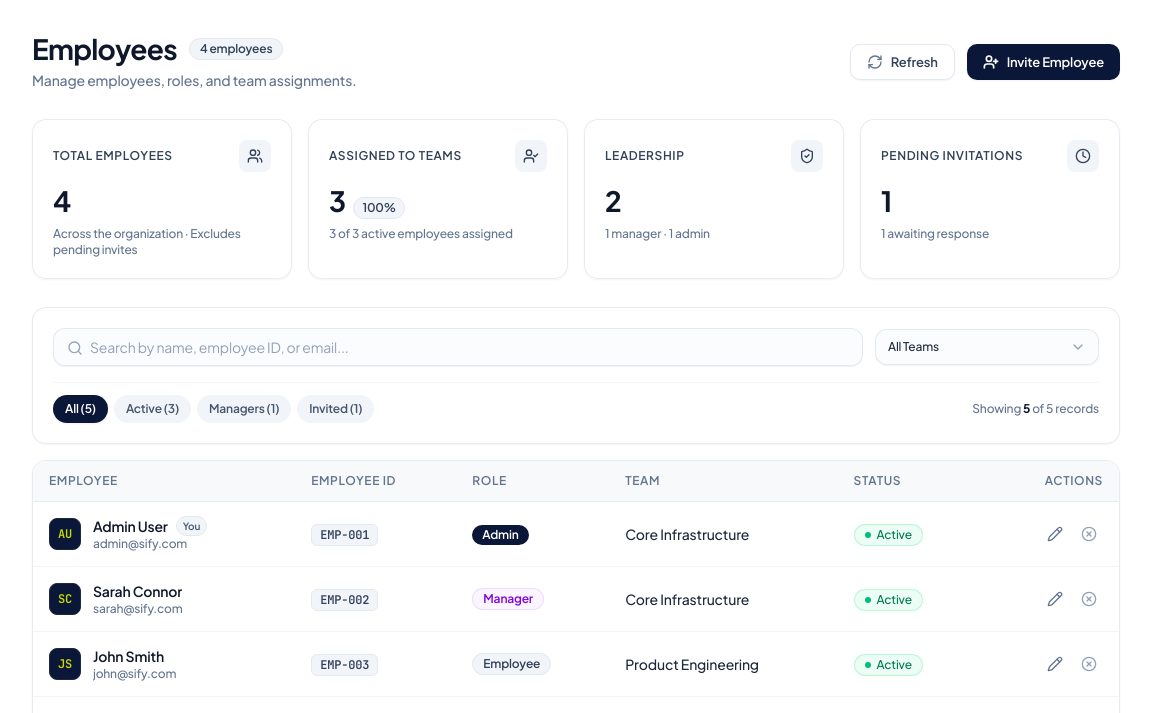
Scenario: EmployeesList UX and Functionality Improvements › filters by status & role pills (All, Active, Managers, Invited)
# Active pill (3 active employees: EMP-001, EMP-002, EMP-003)
Click the button "Active (3)" at (152, 409), box [114, 395, 191, 423]
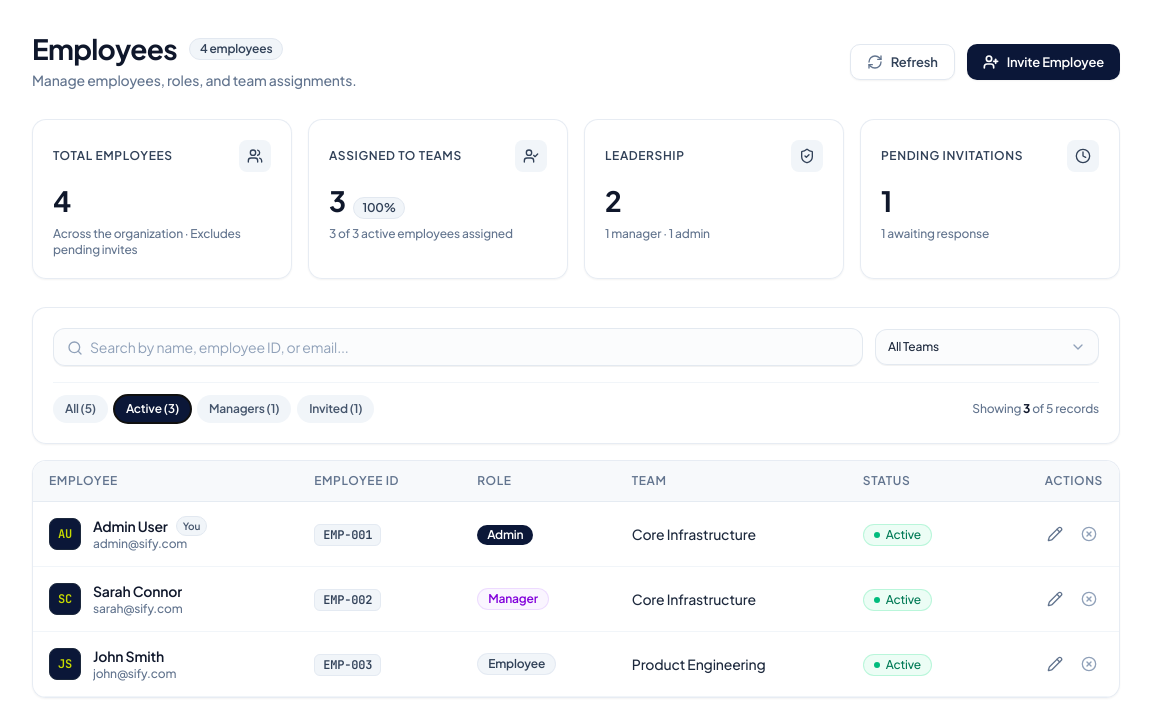
Expected: the text "Sarah Connor" is shown, [93, 581, 182, 601]
Expected: the text "John Smith" is shown, [93, 646, 164, 666]
# Managers pill (1 manager: Sarah Connor)
Click the button "Managers (1)" at (244, 409), box [197, 395, 291, 423]
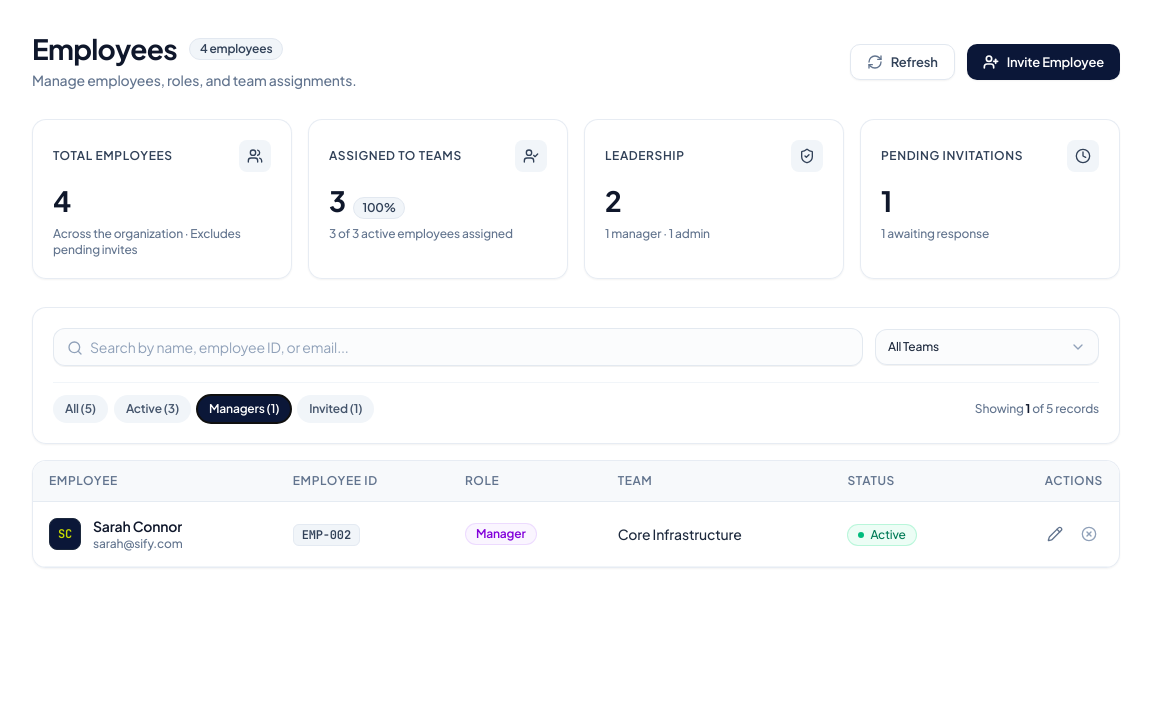
Expected: the text "Sarah Connor" is shown, [93, 516, 182, 536]
Result: the text "John Smith" is gone
# Invited pill (1 pending invitation: Alex Rivera)
Click the button "Invited (1)" at (336, 409), box [297, 395, 374, 423]
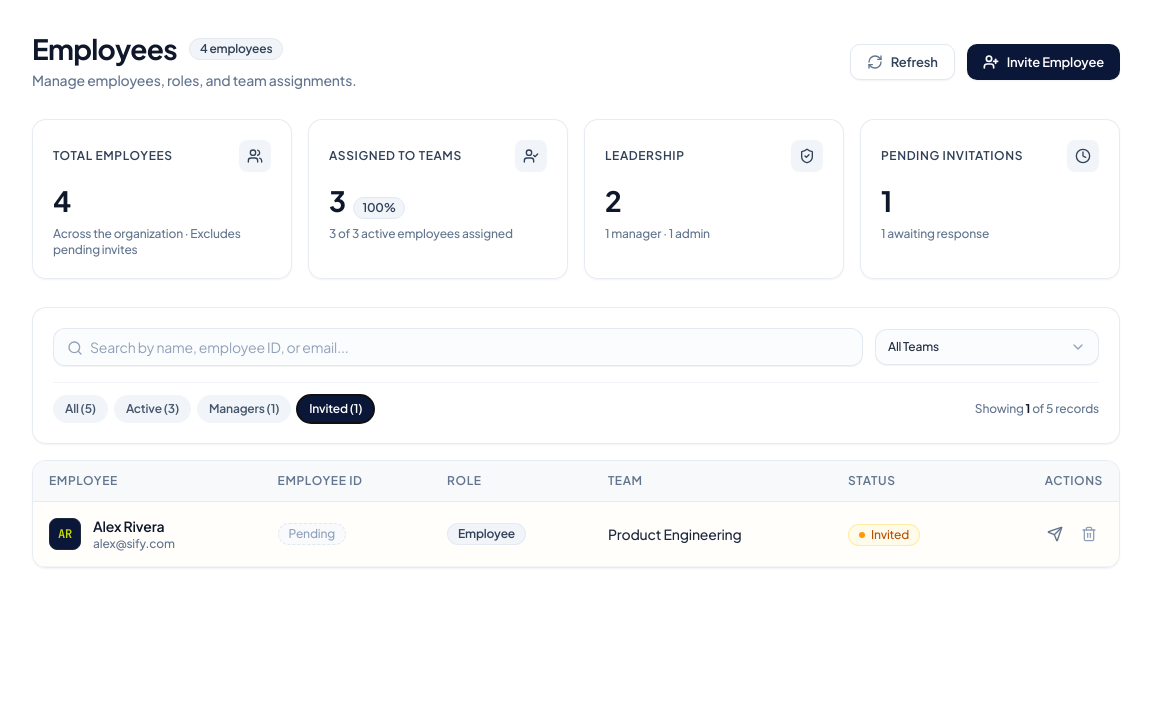
Result: the text "Alex Rivera" is shown at [93, 516, 164, 536]
Result: the text "Sarah Connor" is gone
